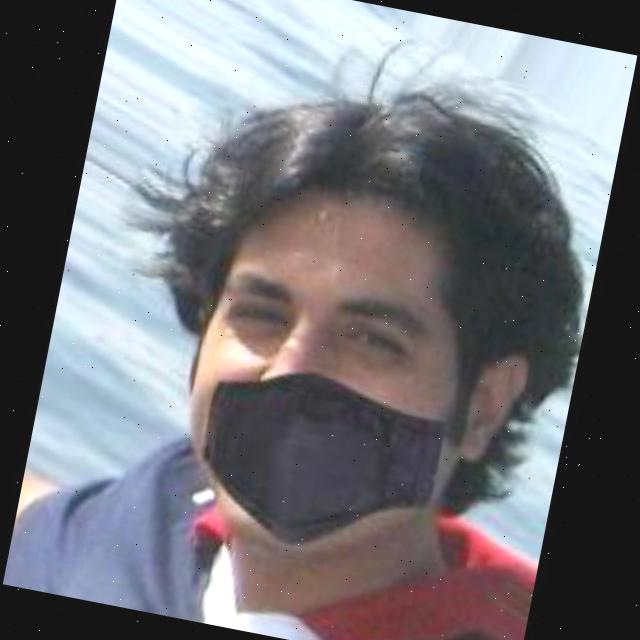suspicion: (109, 8, 552, 636)
